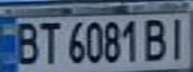0: (84, 18, 106, 64)
1: (121, 17, 142, 63)
6: (63, 18, 87, 65)
8: (103, 18, 124, 64)
B: (9, 18, 42, 66), (139, 16, 172, 62)
I: (163, 15, 193, 62)
T: (36, 18, 63, 65)
